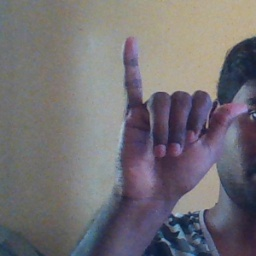J: (110, 33, 249, 196)
